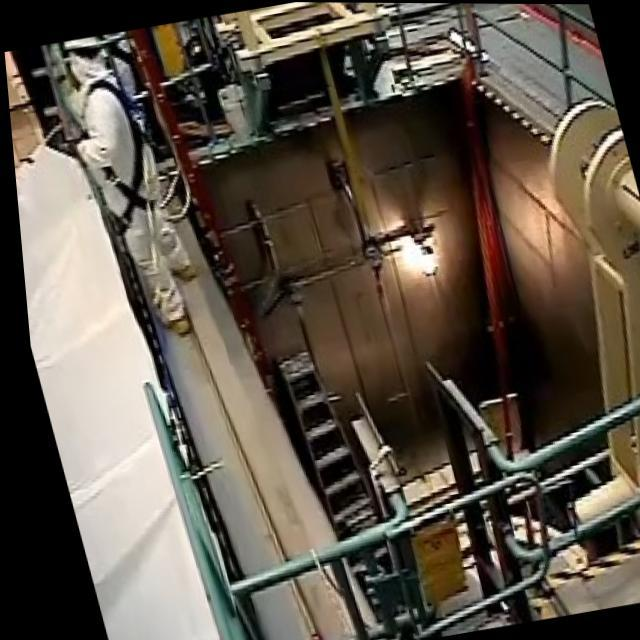belt: (56, 68, 178, 236)
